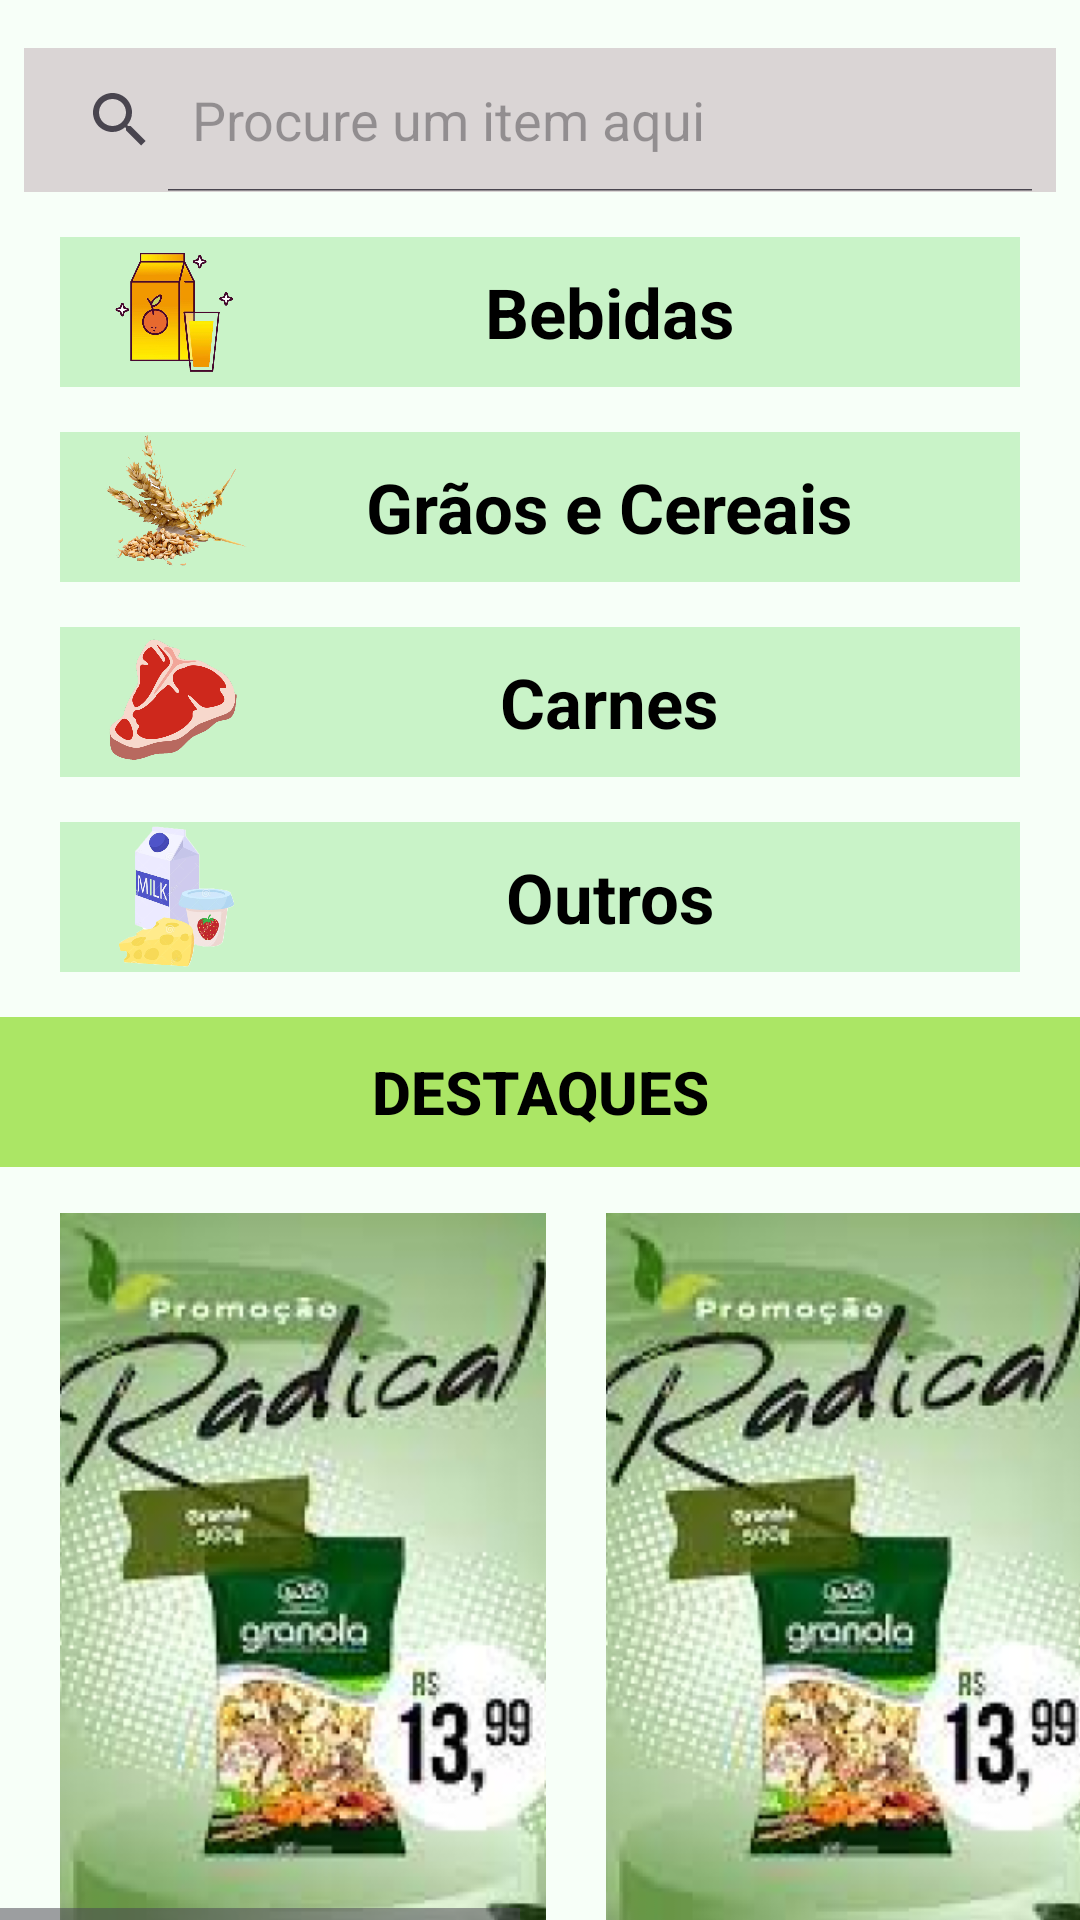

Point at icon controls on the screen. Image size 1080px×1920px, points as (x,y).
cereal: (166,507)
leite: (166,897)
